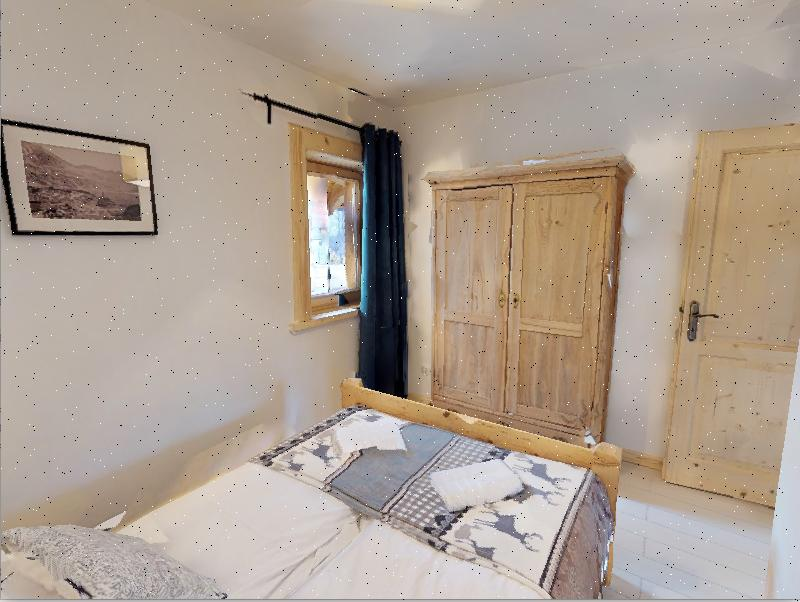bed: (0, 362, 676, 602)
door: (672, 131, 800, 502)
